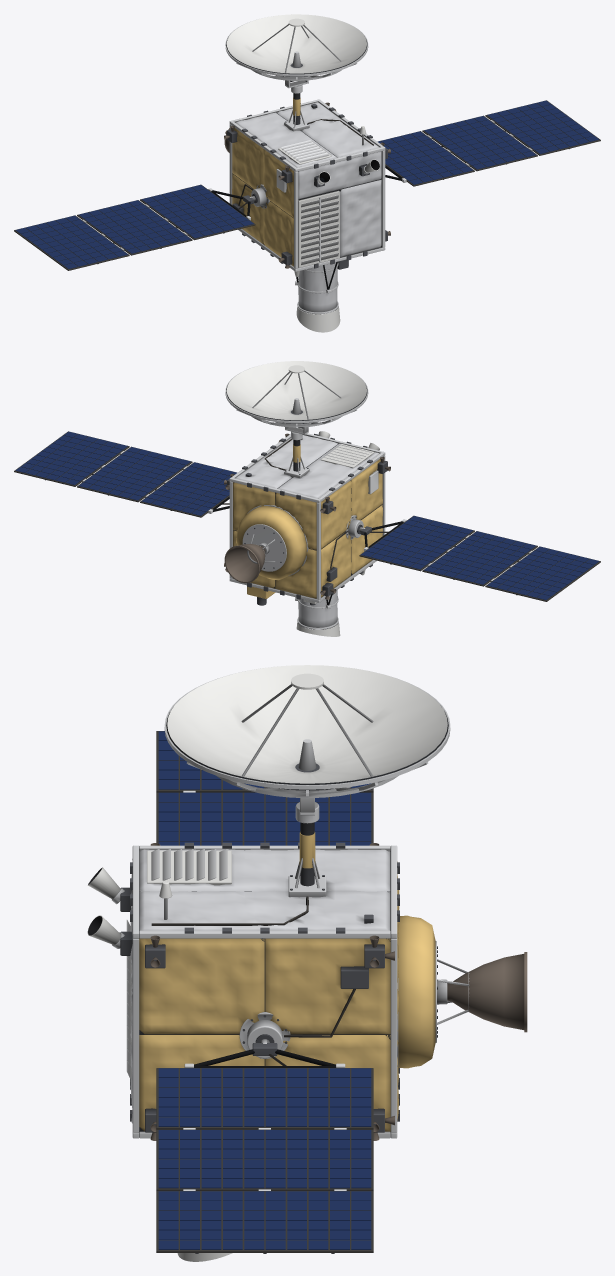
The model's file is orbiter.glb.
The picture shows the model from 3 angles, top to bottom: view 1: azimuth 30°, elevation 25°; view 2: azimuth 150°, elevation 25°; view 3: azimuth 270°, elevation 25°; orthographic projection. The views are drawn at different scales.
Visible parts, largest first — view 1: bus, array_r, array_l, hga, telescope; view 2: bus, array_r, array_l, hga, telescope; view 3: bus, array_l, hga, array_r.
Part boxes in pixels (x1=…): bus: x1=224, y1=80, x2=390, y2=276; array_r: x1=14, y1=184, x2=255, y2=270; array_l: x1=377, y1=100, x2=600, y2=186; hga: x1=225, y1=14, x2=368, y2=81; telescope: x1=295, y1=259, x2=348, y2=332; bus: x1=224, y1=427, x2=390, y2=605; array_r: x1=359, y1=515, x2=600, y2=601; array_l: x1=14, y1=431, x2=236, y2=517; hga: x1=225, y1=361, x2=368, y2=428; telescope: x1=295, y1=590, x2=340, y2=636; bus: x1=87, y1=798, x2=527, y2=1140; array_l: x1=156, y1=1039, x2=373, y2=1253; hga: x1=164, y1=665, x2=450, y2=798; array_r: x1=156, y1=731, x2=373, y2=845.
Size of the model in its own units: 13.02 by 6.68 by 4.65.
